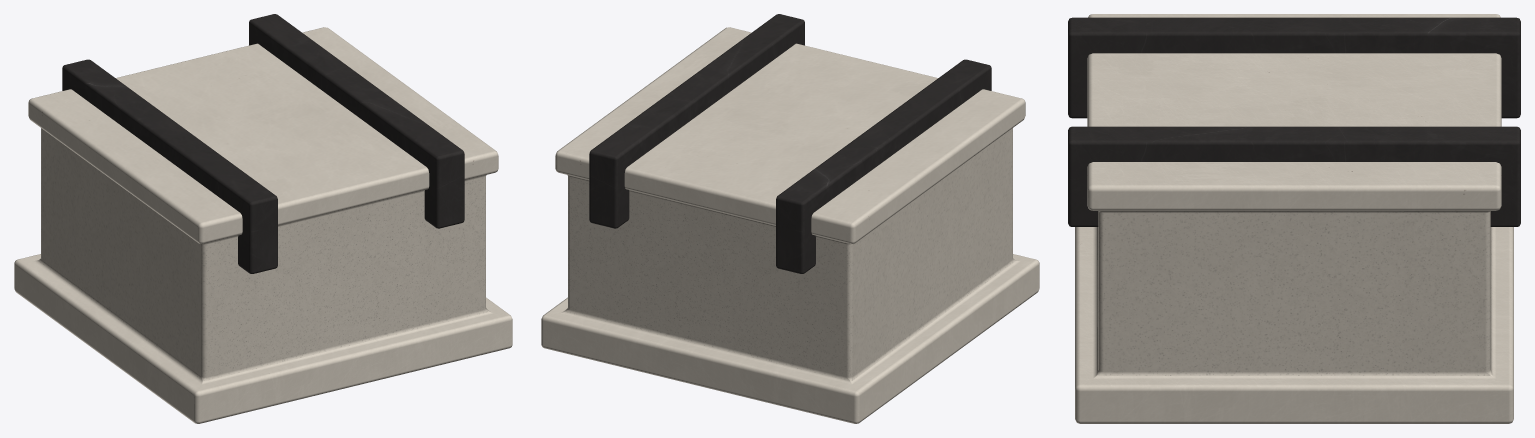
File: Crate 3.fbx
The picture shows the model from 3 angles, left to right: view 1: azimuth 30°, elevation 25°; view 2: azimuth 150°, elevation 25°; view 3: azimuth 270°, elevation 25°; orthographic projection. The views are drawn at different scales.
Parts seen in each view (by area): view 1: Crate 3; view 2: Crate 3; view 3: Crate 3.
Boxes of the visible parts, left/top/right/bottom form: Crate 3: left=14, top=14, right=512, bottom=423; Crate 3: left=541, top=14, right=1039, bottom=423; Crate 3: left=1068, top=14, right=1520, bottom=423.
Size of the model in its own units: 1.12 by 1.15 by 0.715.
